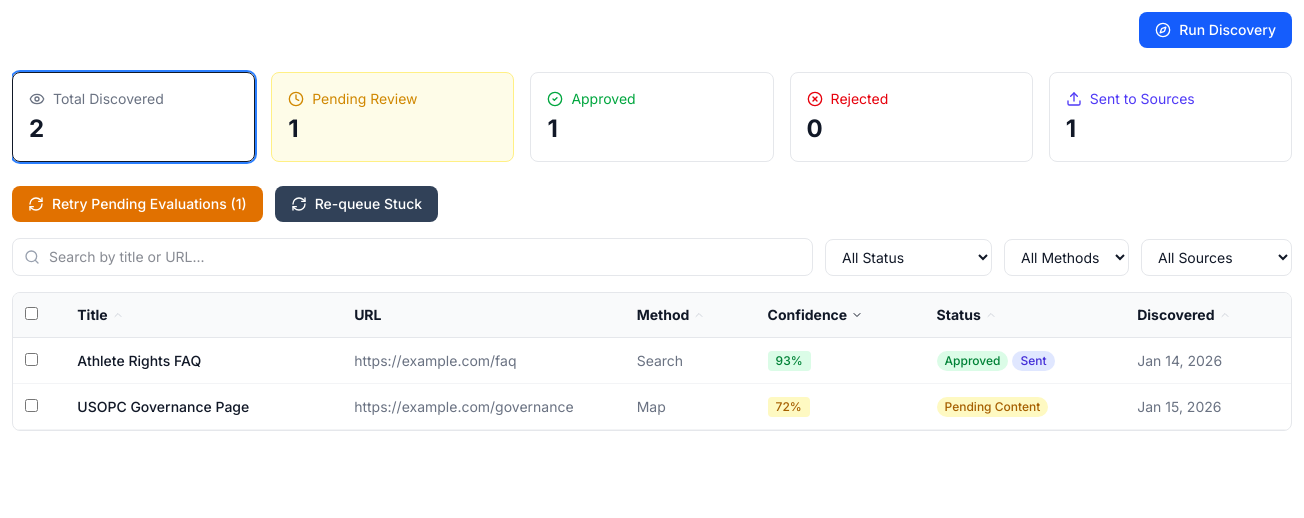
Test: DiscoveriesAdminClient › selects and shows bulk action bar
expect the text "USOPC Governance Page" is shown: met, box [65,384,342,430]
Note: First checkbox is the "select all" header checkbox
Click the checkbox next to "Athlete Rights FAQ". click: [32, 359]
box: [25,352,38,366]
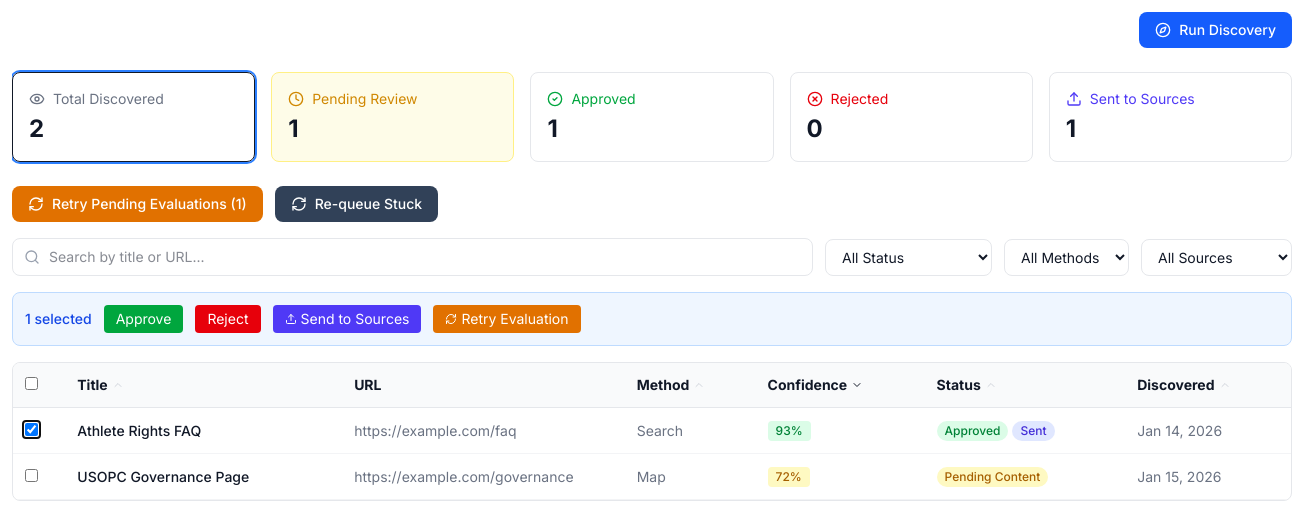
expect the text "1 selected" is shown: met, box [25,309,92,329]
expect the button "Approve" is shown: met, box [104,305,183,333]
expect the button "Reject" is shown: met, box [195,305,260,333]
